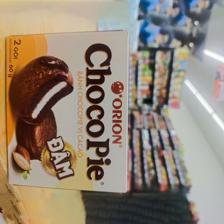Chocopie_cacao: (1, 27, 133, 195)
